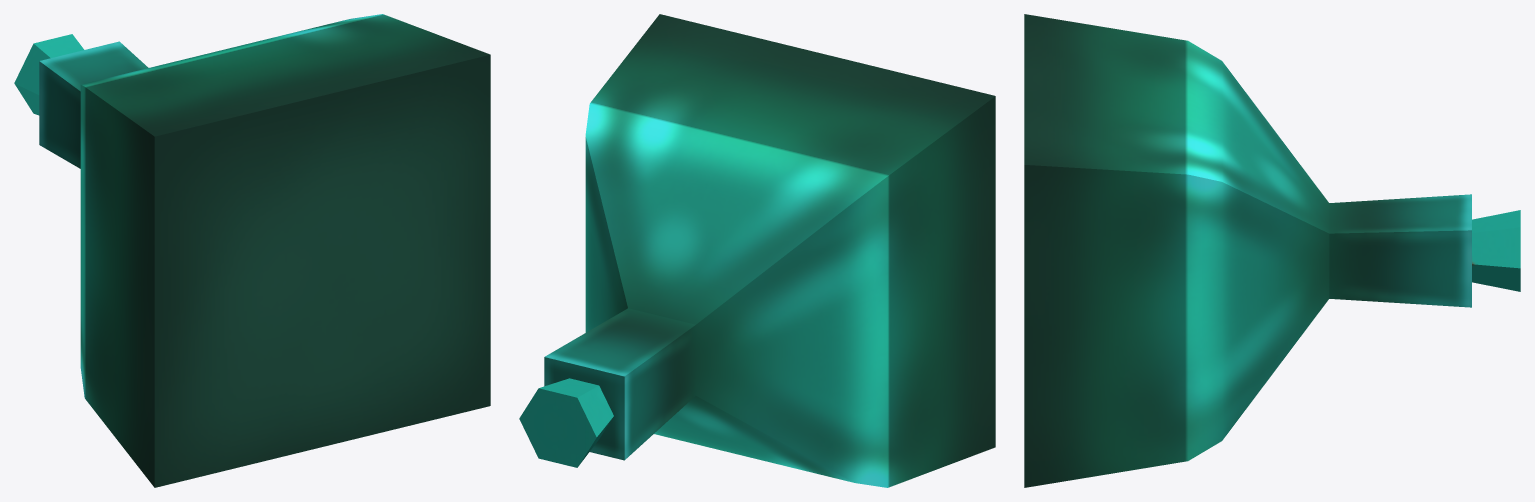
File: Food_bottle4.fbx
3 views of the same model, side by side, from view 1: azimuth 30°, elevation 25°; view 2: azimuth 150°, elevation 25°; view 3: azimuth 270°, elevation 25° (orthographic). The views are drawn at different scales.
Visible parts, largest first — view 1: Food_bottle4; view 2: Food_bottle4; view 3: Food_bottle4.
Part boxes in pixels (left/top/right/bottom): Food_bottle4: left=14, top=14, right=490, bottom=487; Food_bottle4: left=519, top=14, right=995, bottom=487; Food_bottle4: left=1024, top=14, right=1520, bottom=487.
Size of the model in its own units: 0.1642 by 0.164 by 0.2283.
